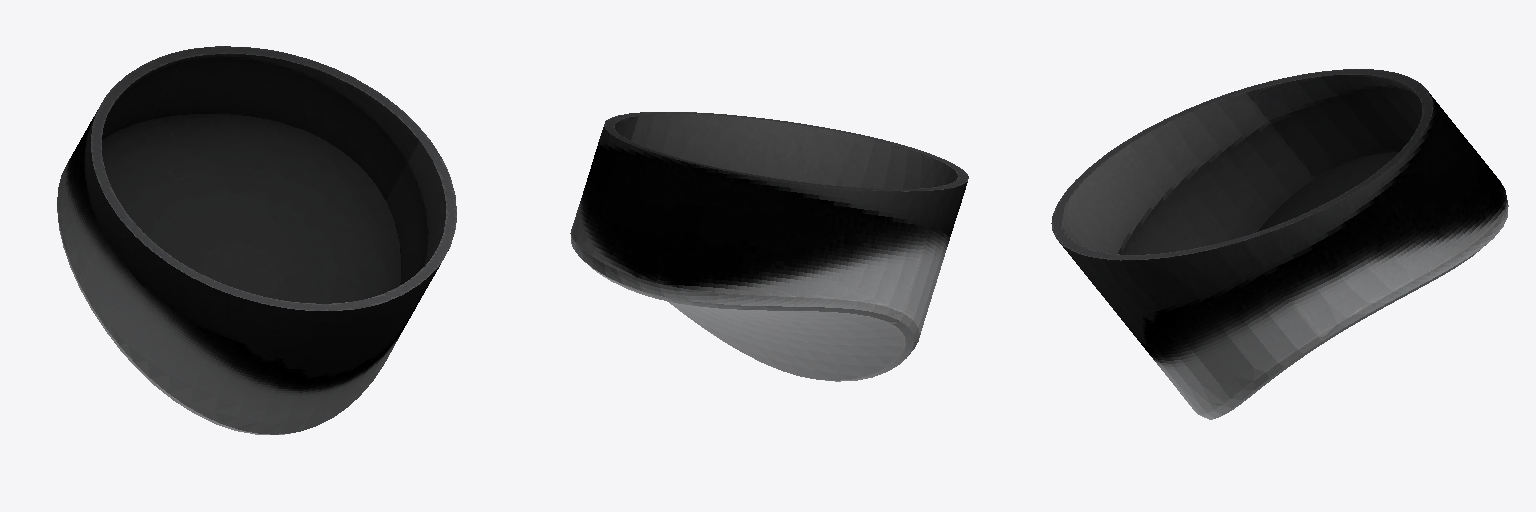
3 renders of one model, left to right at view 1: azimuth 30°, elevation 25°; view 2: azimuth 150°, elevation 25°; view 3: azimuth 270°, elevation 25°, orthographic.
Parts seen in each view (by area): view 1: trigger.003; view 2: trigger.003; view 3: trigger.003.
Part boxes in pixels (x1,y1,x2,y2): trigger.003: (57, 46, 456, 434); trigger.003: (570, 112, 968, 381); trigger.003: (1051, 69, 1508, 419).
Bounding box in the file's own units: 0.0263 × 0.0239 × 0.0334.
Materials: 1 (1 with a texture image).